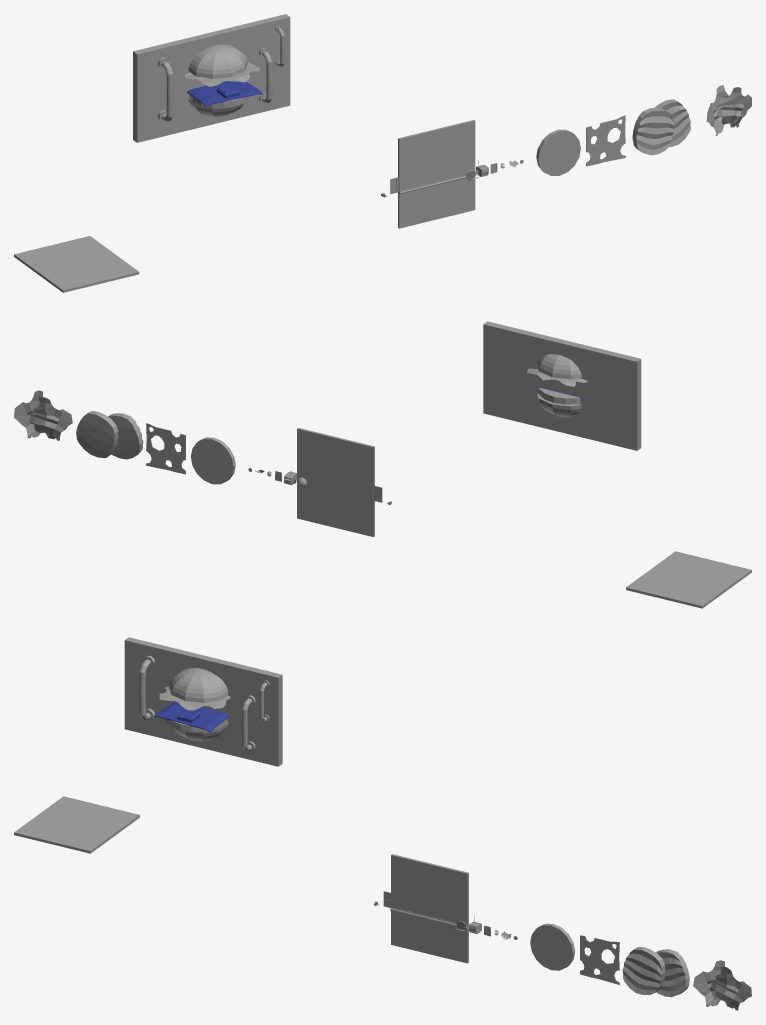
File: Wall.obj
The picture shows the model from 3 angles, top to bottom: view 1: azimuth 30°, elevation 25°; view 2: azimuth 150°, elevation 25°; view 3: azimuth 330°, elevation 25°; orthographic projection.
Parts seen in each view (by area): view 1: Cylinder.012_Cylinder.026, Cube.001_Cube.021, Cube.004_Cube.031, Sphere.000_Sphere.010, Cylinder.004_Cylinder.008, Cylinder.001_Cylinder.006, Plane.002_Plane.012, Plane.004_Plane.011; view 2: Cylinder.012_Cylinder.026, Cube.001_Cube.021, Cube.004_Cube.031, Cylinder.004_Cylinder.008, Sphere.000_Sphere.010, Plane.002_Plane.012, Cylinder.001_Cylinder.006, Plane.004_Plane.011; view 3: Cylinder.012_Cylinder.026, Cube.001_Cube.021, Cube.004_Cube.031, Sphere.000_Sphere.010, Cylinder.004_Cylinder.008, Plane.002_Plane.012, Cylinder.001_Cylinder.006, Plane.004_Plane.011.
Boxes of the visible parts, x1,y1,x2,y2 form: Cylinder.012_Cylinder.026: (133, 14, 290, 142); Cube.001_Cube.021: (398, 120, 475, 228); Cube.004_Cube.031: (14, 236, 139, 292); Sphere.000_Sphere.010: (184, 44, 263, 116); Cylinder.004_Cylinder.008: (632, 99, 690, 155); Cylinder.001_Cylinder.006: (536, 129, 580, 175); Plane.002_Plane.012: (706, 85, 751, 136); Plane.004_Plane.011: (586, 115, 625, 166); Cylinder.012_Cylinder.026: (483, 321, 641, 450); Cube.001_Cube.021: (297, 428, 375, 536); Cube.004_Cube.031: (626, 551, 751, 608); Cylinder.004_Cylinder.008: (76, 411, 143, 459); Sphere.000_Sphere.010: (527, 354, 587, 417); Plane.002_Plane.012: (14, 390, 72, 440); Cylinder.001_Cylinder.006: (190, 437, 235, 484); Plane.004_Plane.011: (146, 423, 185, 474); Cylinder.012_Cylinder.026: (124, 637, 282, 766); Cube.001_Cube.021: (390, 854, 468, 963); Cube.004_Cube.031: (14, 796, 139, 853); Sphere.000_Sphere.010: (154, 668, 230, 741); Cylinder.004_Cylinder.008: (622, 947, 689, 997); Plane.002_Plane.012: (693, 960, 751, 1010); Cylinder.001_Cylinder.006: (530, 923, 575, 970); Plane.004_Plane.011: (580, 935, 619, 984).
Bounding box in the file's own units: 897 × 289 × 117.
